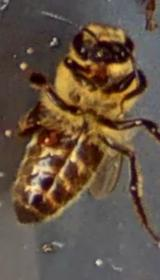varroa_mite: (30, 122, 70, 160)
